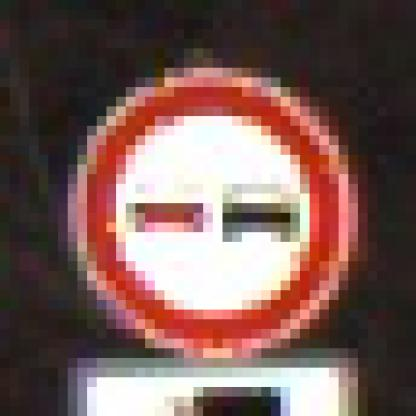No Overtaking: (59, 59, 369, 369)
